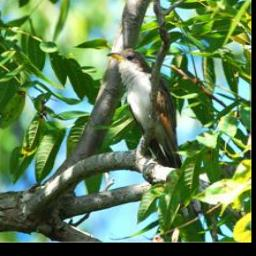Cuckoo: (107, 47, 183, 167)
